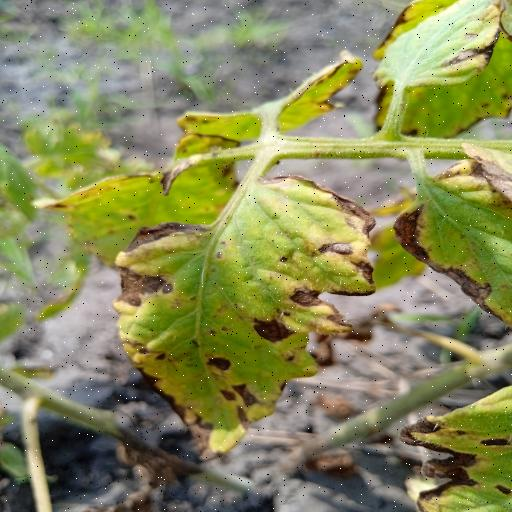Tomato_Brown_Spots: (107, 173, 379, 460)
